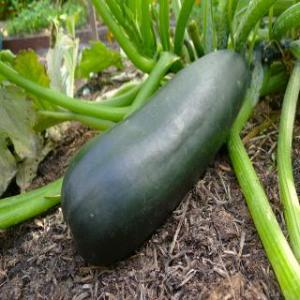zucchini: (58, 44, 250, 248)
